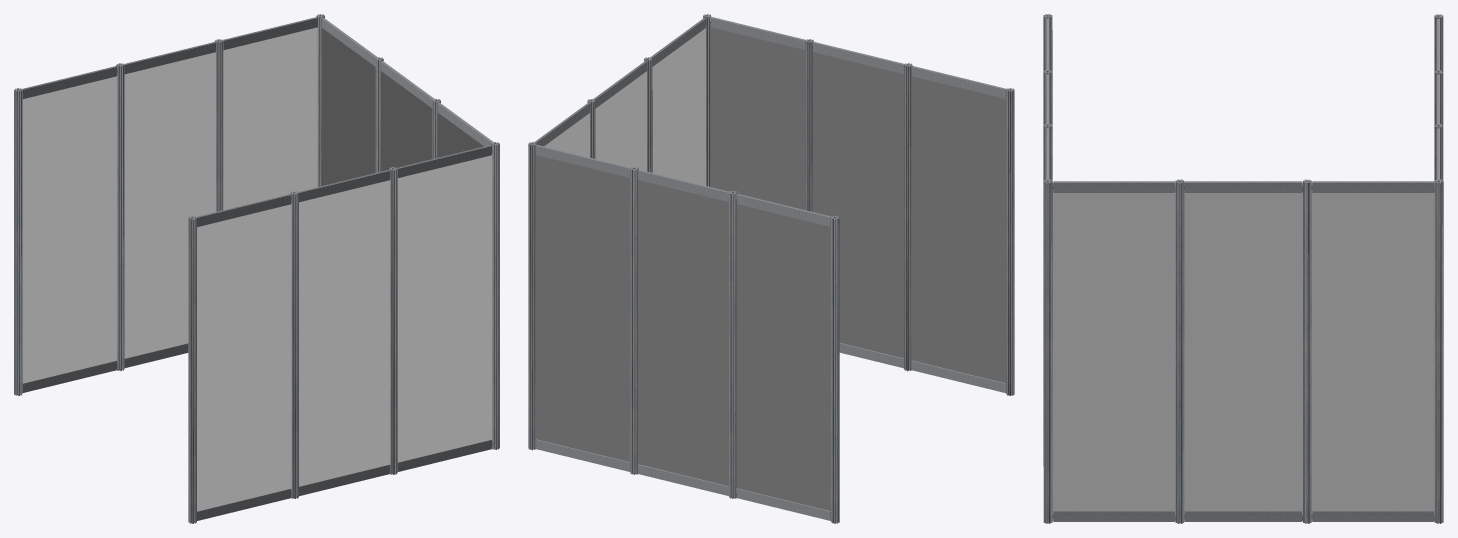
Rendered from Stand_Basico.obj.
3 views of the same model, side by side, from view 1: azimuth 30°, elevation 25°; view 2: azimuth 150°, elevation 25°; view 3: azimuth 270°, elevation 25° (orthographic). The views are drawn at different scales.
Visible parts, largest first — view 1: Pared3_StandBasico, Pared1_StandBasico, Estructura_StandBasico, Pared2_StandBasico; view 2: Pared1_StandBasico, Pared3_StandBasico, Estructura_StandBasico, Pared2_StandBasico; view 3: Pared2_StandBasico, Estructura_StandBasico.
Part boxes in pixels (bbox=[...]): Pared3_StandBasico: bbox=[197, 155, 492, 511]; Pared1_StandBasico: bbox=[22, 27, 317, 382]; Estructura_StandBasico: bbox=[14, 14, 499, 523]; Pared2_StandBasico: bbox=[322, 28, 483, 185]; Pared1_StandBasico: bbox=[535, 155, 830, 510]; Pared3_StandBasico: bbox=[710, 25, 1005, 383]; Estructura_StandBasico: bbox=[528, 14, 1014, 523]; Pared2_StandBasico: bbox=[544, 28, 705, 185]; Pared2_StandBasico: bbox=[1052, 192, 1434, 511]; Estructura_StandBasico: bbox=[1043, 14, 1443, 523].
Size of the model in its own units: 3.26 by 3.06 by 3.26.
Materials: 2 (2 with a texture image).
